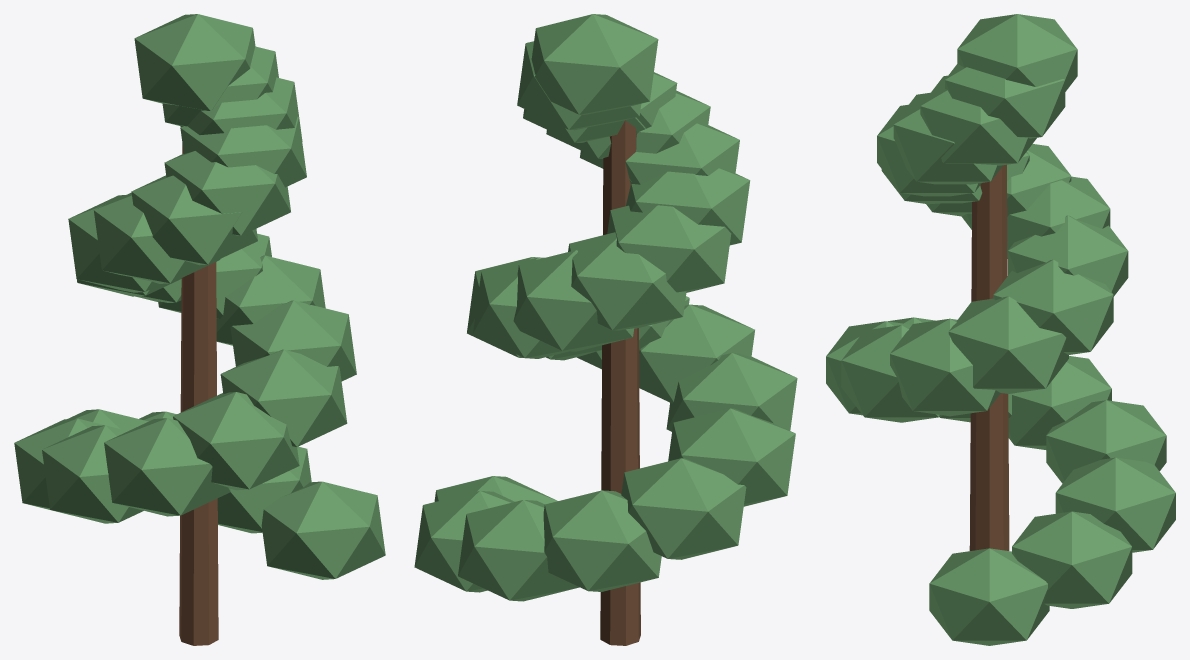
Rendered from nature_topiary_spiral.glb.
3 views of the same model, side by side, from view 1: azimuth 30°, elevation 25°; view 2: azimuth 150°, elevation 25°; view 3: azimuth 270°, elevation 25° (orthographic). The views are drawn at different scales.
Parts seen in each view (by area): view 1: nature_topiary_spiral; view 2: nature_topiary_spiral; view 3: nature_topiary_spiral.
Boxes of the visible parts, bbox=[...] form: nature_topiary_spiral: bbox=[14, 14, 385, 645]; nature_topiary_spiral: bbox=[414, 14, 797, 645]; nature_topiary_spiral: bbox=[826, 14, 1175, 645].
Size of the model in its own units: 1.14 by 1.99 by 1.04.
